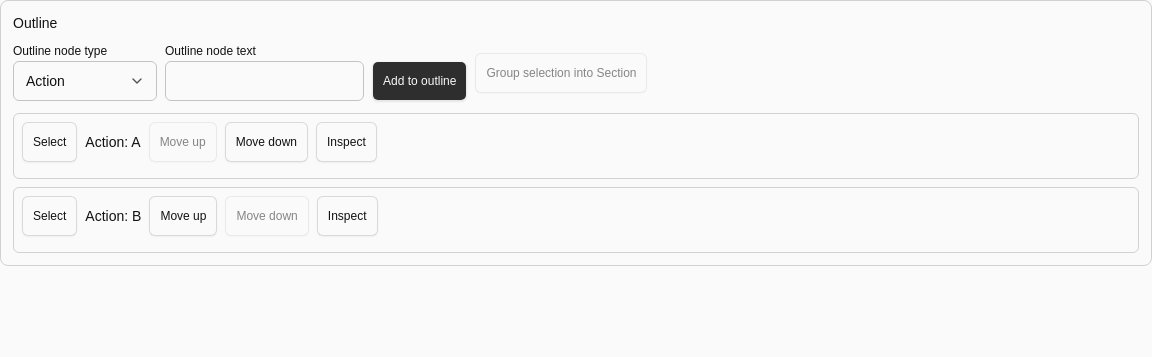
Test: canvas yapılandırılmış outline › groups a selection into a Section and collapses it view-locally
This screenshot has width=1152, height=357.
Click the button with aria-label "Select Action: A" at {"x": 50, "y": 142}, box [22,122,77,162]
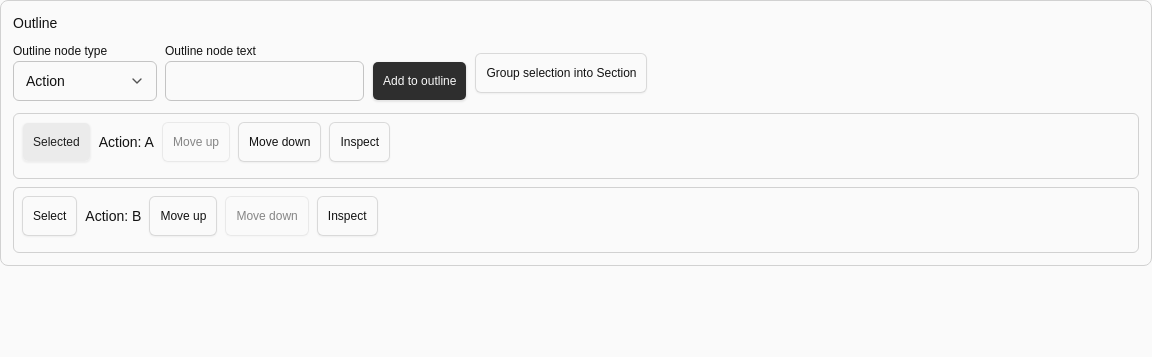
Click the button "Select" at {"x": 50, "y": 216}, box [22,196,77,236]
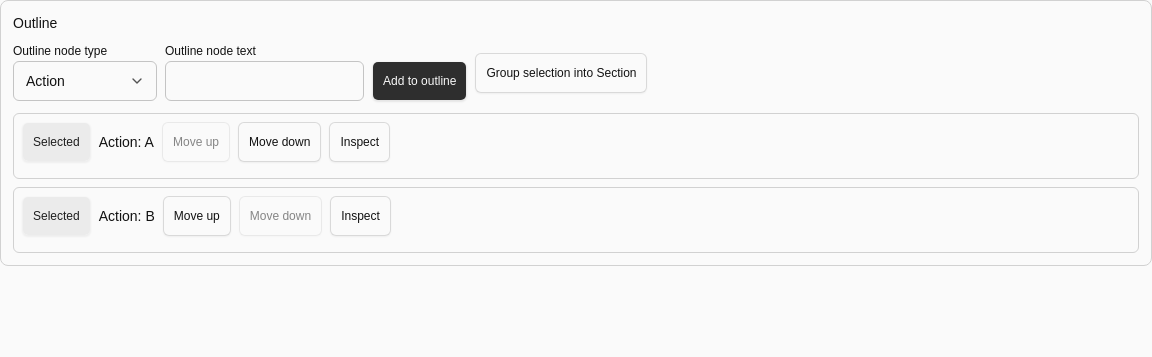
Click the button "Group selection into Section" at {"x": 561, "y": 73}, box [475,53,648,93]
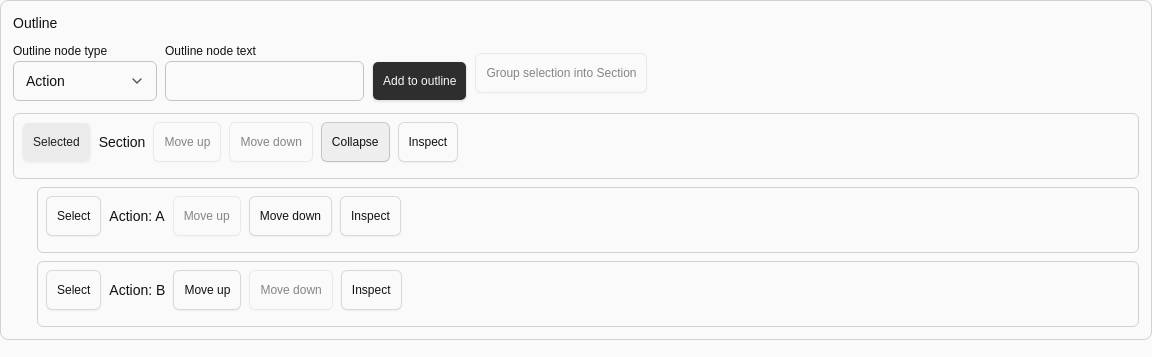
Click the button "Collapse" at {"x": 355, "y": 142}, box [321,122,390,162]
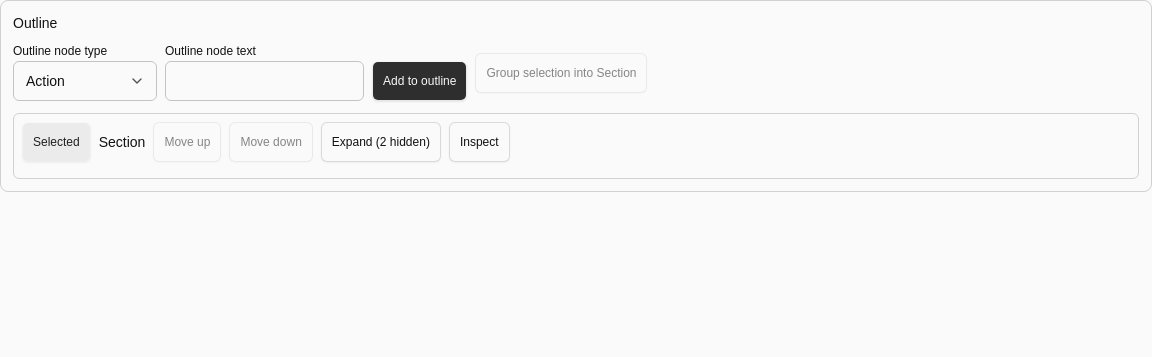
Now the text "hidden" is shown
Click the button "Expand (2 hidden)" at {"x": 381, "y": 142}, box [321,122,441,162]
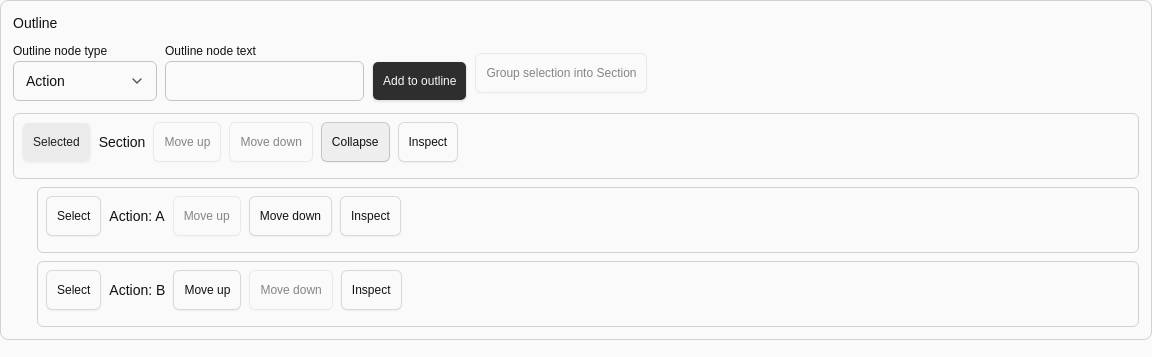
Now the button with aria-label "Select Action: A" is shown, box [46,196,101,236]
